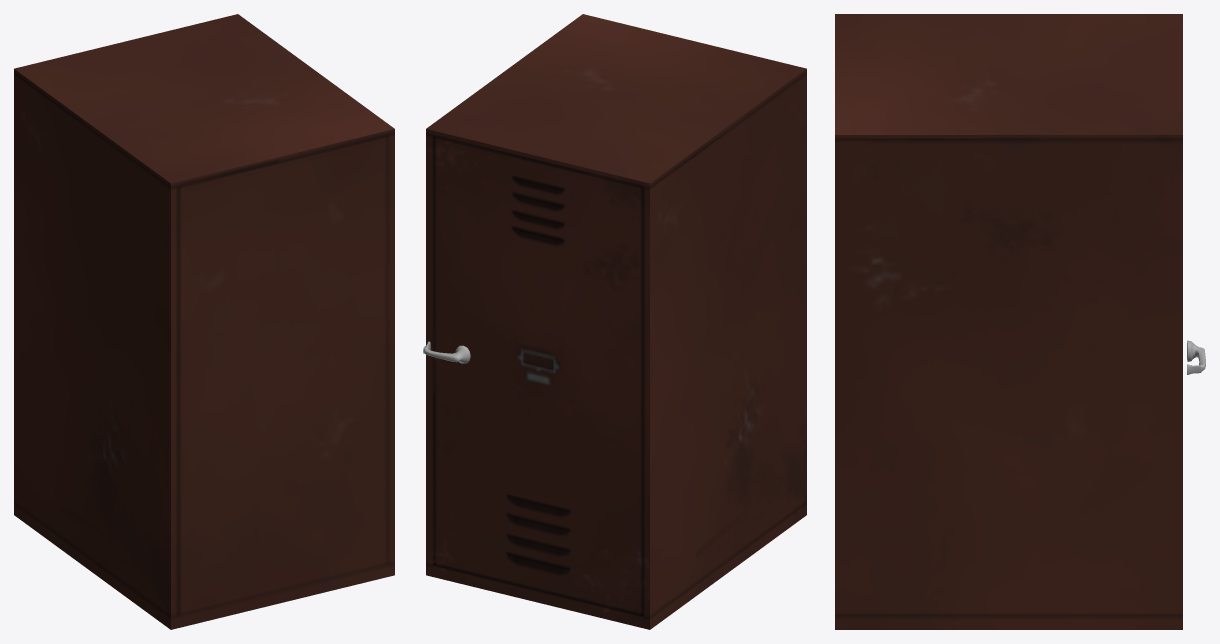
The model's file is locker_thick.fbx.
The picture shows the model from 3 angles, left to right: view 1: azimuth 30°, elevation 25°; view 2: azimuth 150°, elevation 25°; view 3: azimuth 270°, elevation 25°; orthographic projection. The views are drawn at different scales.
Visible parts, largest first — view 1: lockerThin_mesh; view 2: lockerThin_mesh; view 3: lockerThin_mesh.
Part boxes in pixels (<box>): lockerThin_mesh: <box>14,14,394,629</box>; lockerThin_mesh: <box>426,14,806,629</box>; lockerThin_mesh: <box>835,14,1182,629</box>.
Bounding box in the file's own units: 61.37 × 117 × 79.42.
